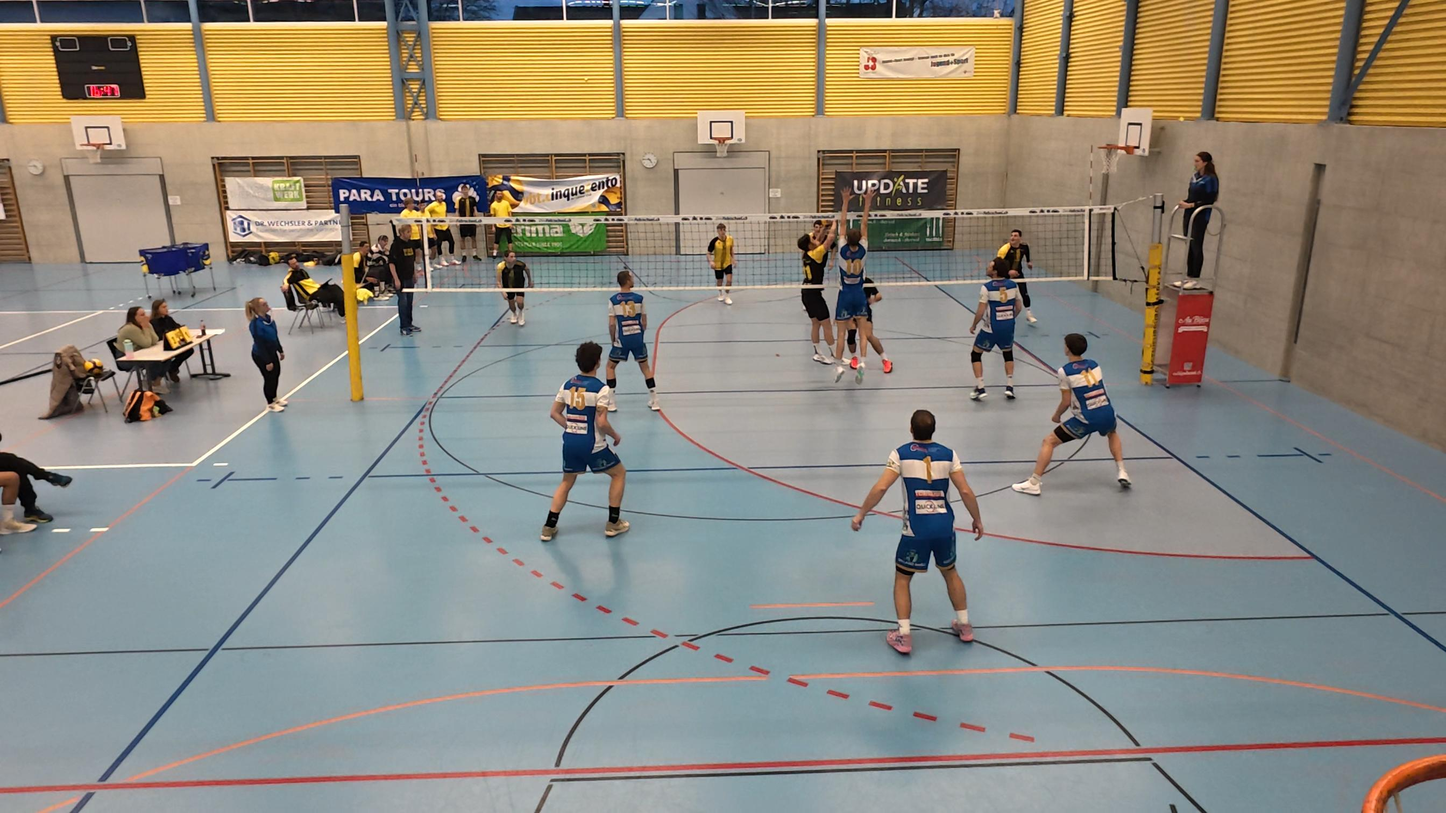Block: (833, 178, 878, 389)
Player: (852, 408, 982, 655), (1014, 333, 1131, 494), (541, 340, 627, 540), (966, 263, 1021, 402), (604, 266, 656, 403), (834, 260, 892, 373), (993, 230, 1041, 329), (498, 247, 529, 327), (707, 224, 736, 306), (806, 215, 826, 243)
Set: (792, 207, 840, 365)
